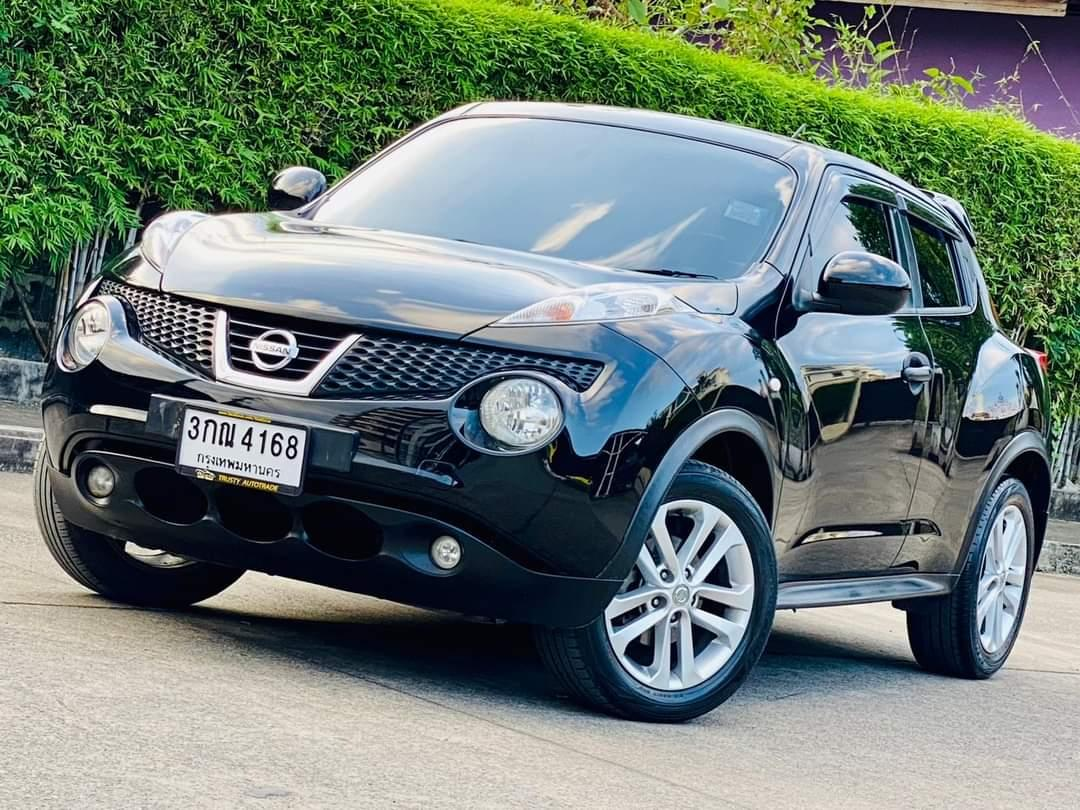license-plate: (179, 400, 308, 499)
